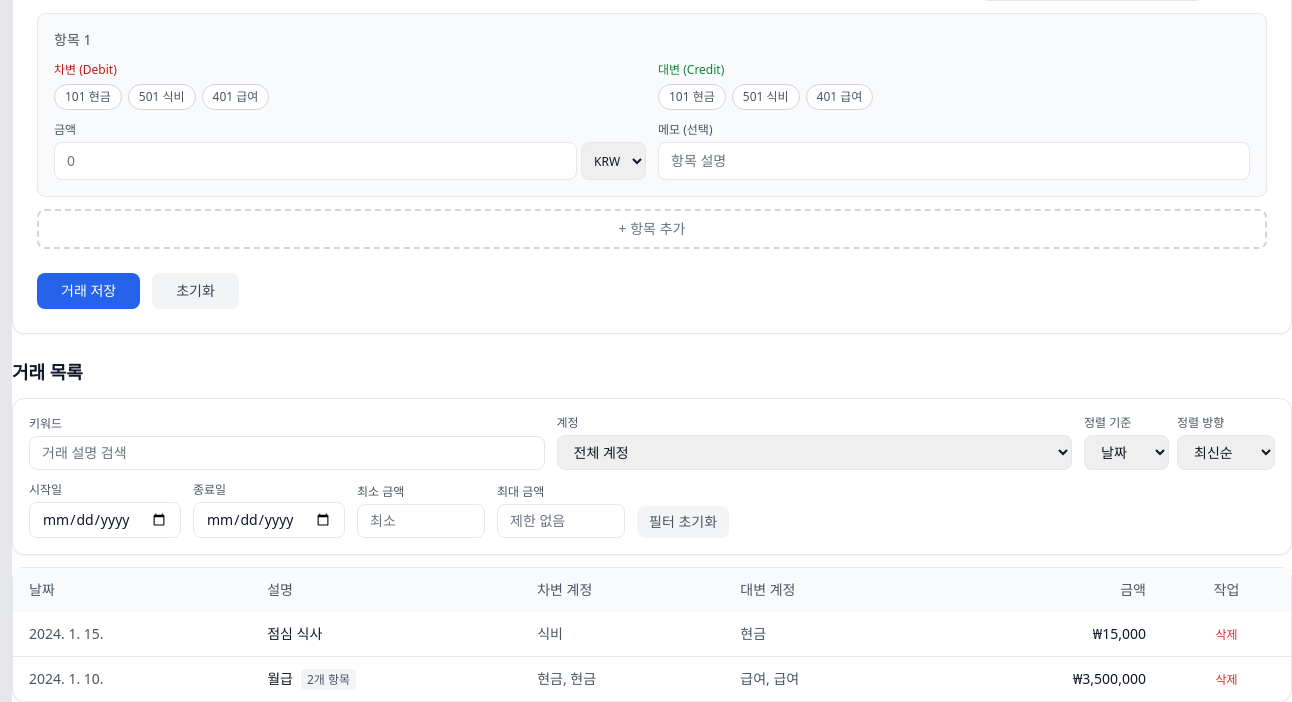
Test case: TransactionsPage › 설정 응답이 늦어도 편집 중인 수정 폼 값은 유지된다
(page scrolled)
Expected: the text "점심 식사" is shown, [251,612,521,656]
Click the text "점심 식사" at (66,634), box [13,612,1291,656]
(page scrolled)
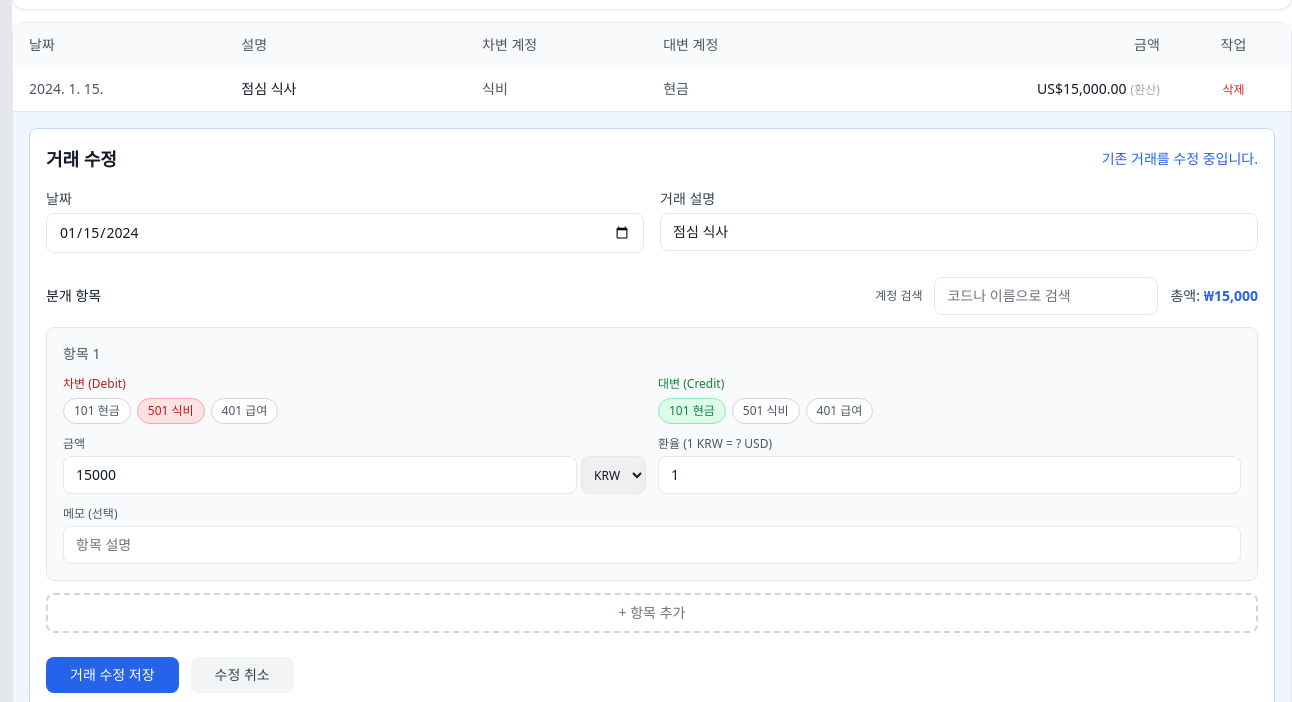
Expected: the field with placeholder "거래 내용을 입력하세요" holds "점심 식사", [660,213,1258,251]
Expected: the 1st number field with placeholder "0" holds "15000", [63,456,577,494]
